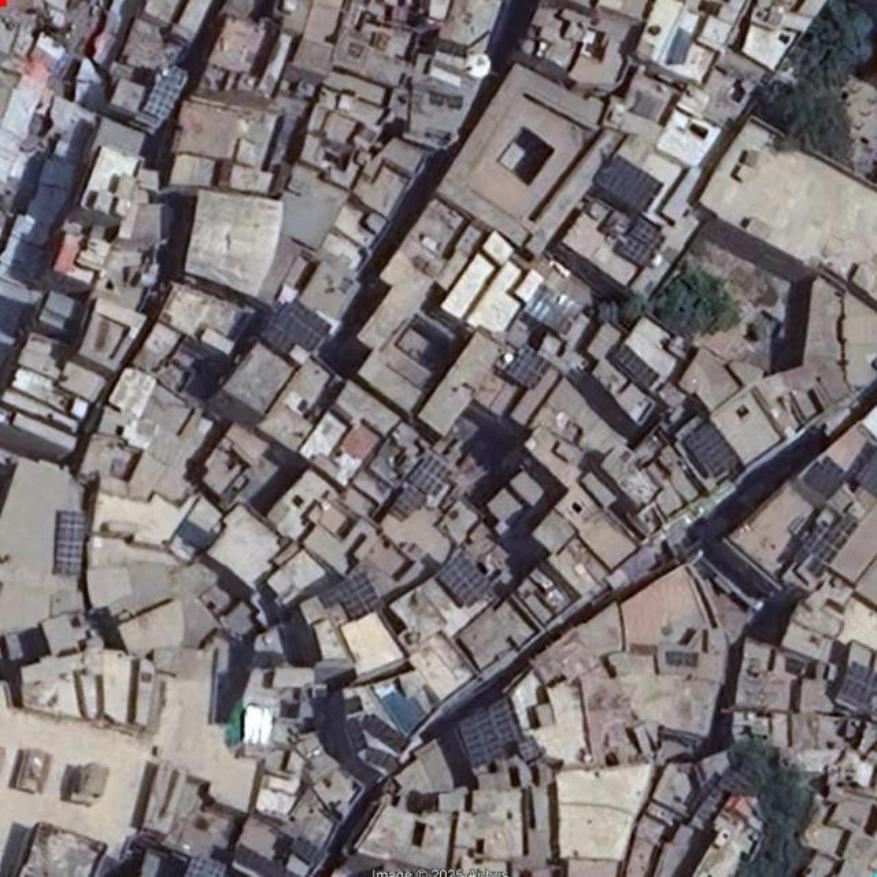Solarpanel: (262, 295, 332, 367), (458, 698, 525, 770), (593, 155, 663, 212), (805, 517, 861, 581), (319, 575, 388, 625), (438, 554, 491, 610), (685, 421, 737, 478), (142, 67, 188, 120), (617, 217, 666, 265), (53, 510, 85, 578), (507, 346, 553, 393), (613, 346, 661, 387), (408, 454, 454, 496), (803, 459, 845, 500), (837, 662, 876, 706), (187, 854, 228, 876), (859, 452, 876, 499)
